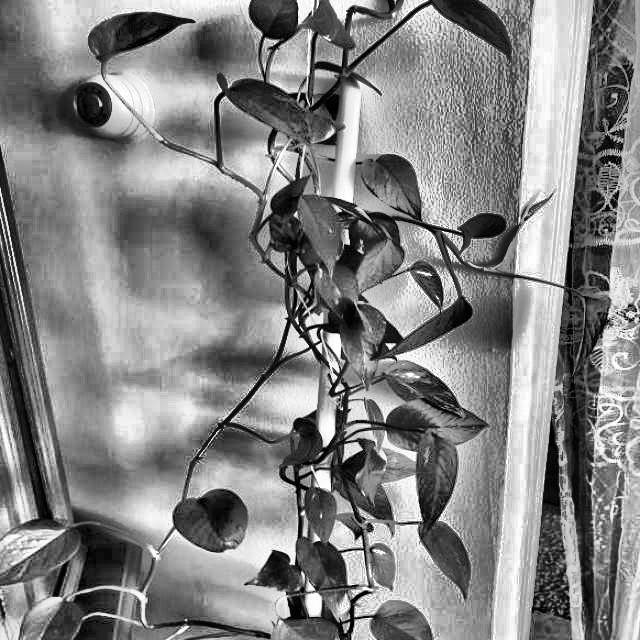plants: (20, 17, 506, 640)
